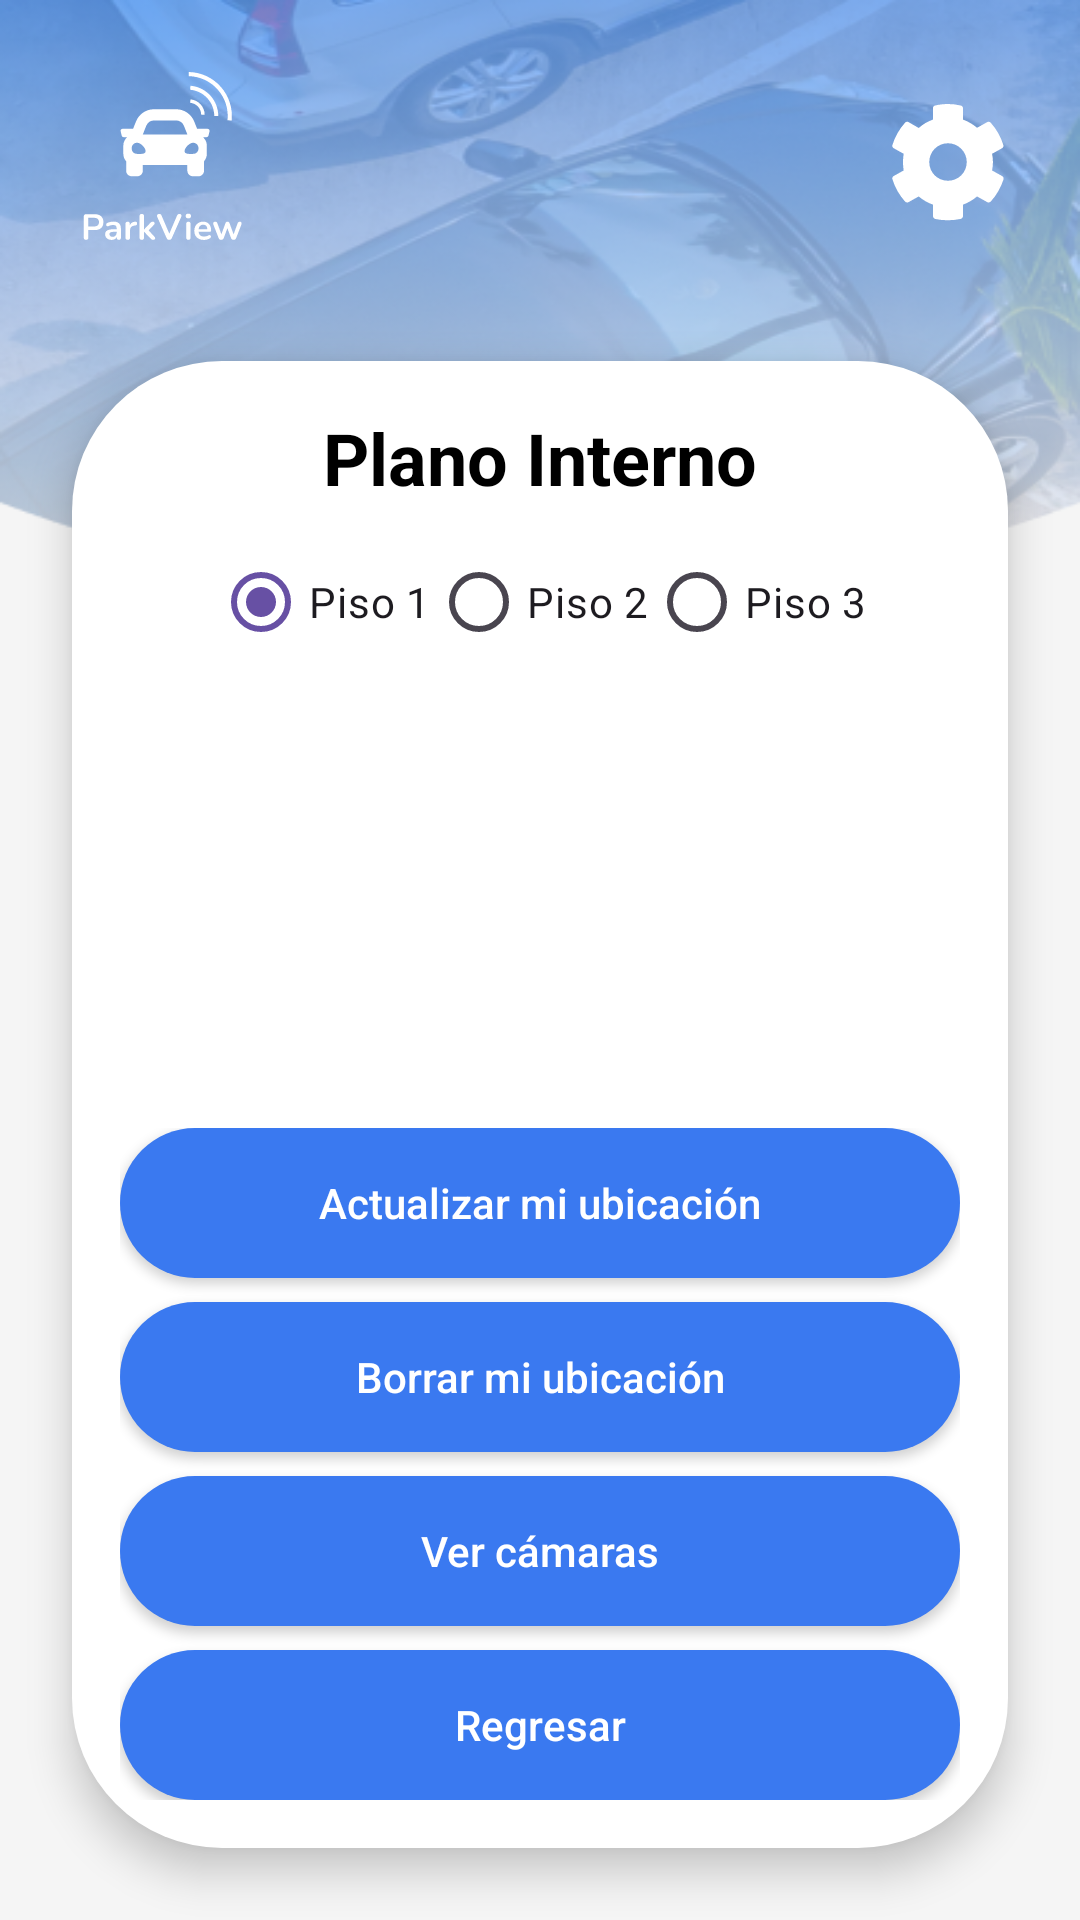

Icons on this 1080w x 1920h Android screen, each with its box as (x1, y1, x2, y2):
settings: (888, 104, 1004, 221)
